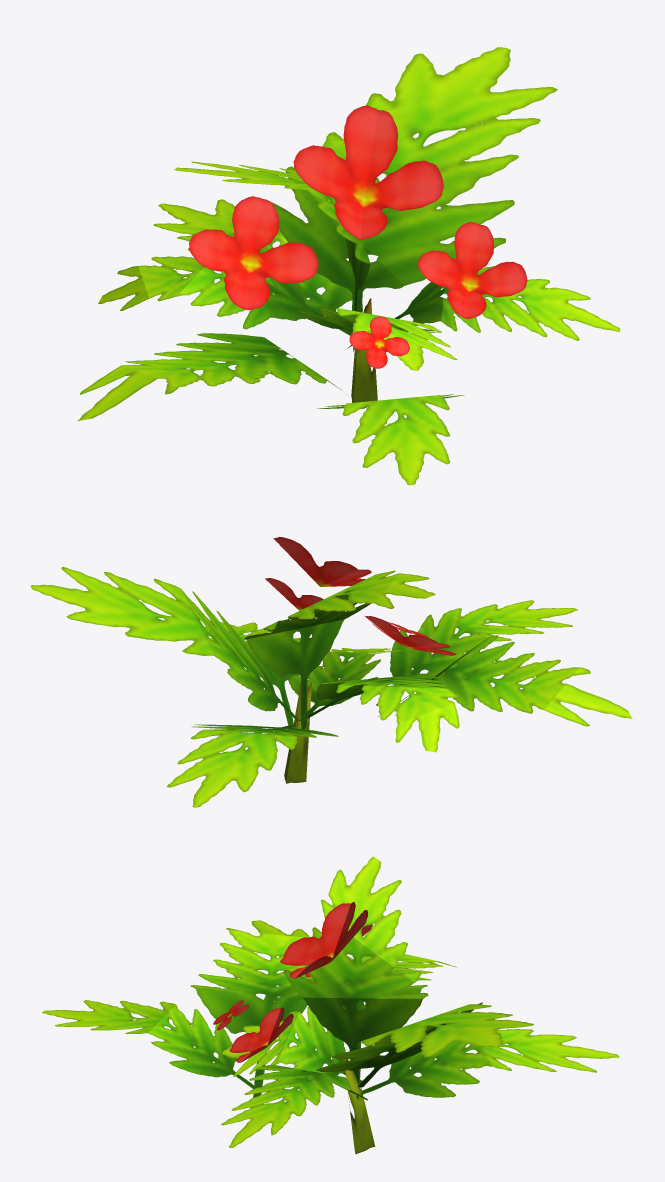
File: hua08.FBX
3 renders of one model, top to bottom at view 1: azimuth 30°, elevation 25°; view 2: azimuth 150°, elevation 25°; view 3: azimuth 270°, elevation 25°, orthographic. The views are drawn at different scales.
Parts seen in each view (by area): view 1: hua008; view 2: hua008; view 3: hua008.
Boxes of the visible parts, x1=… form: hua008: x1=77, y1=47, x2=620, y2=485; hua008: x1=31, y1=537, x2=632, y2=807; hua008: x1=42, y1=856, x2=619, y2=1154.
Bounding box in the file's own units: 34.08 × 15.18 × 33.22.
